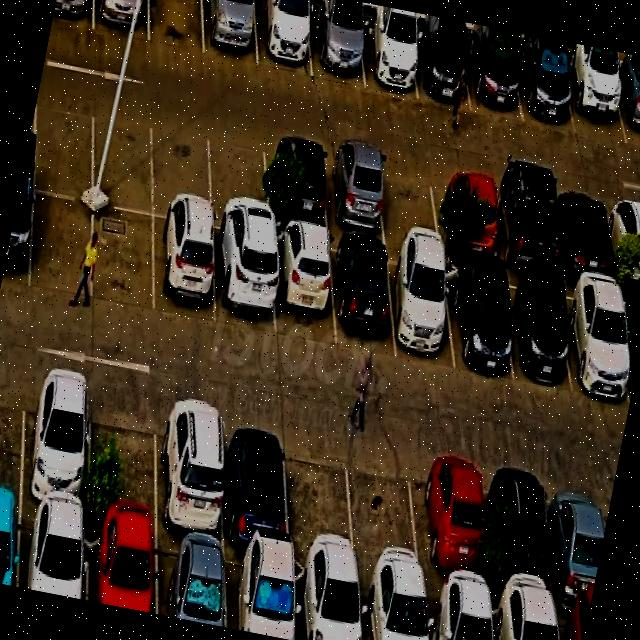empty: (348, 434, 424, 582), (89, 381, 158, 531), (286, 423, 356, 569), (93, 100, 155, 215), (30, 192, 94, 301), (209, 123, 268, 239), (153, 113, 212, 226), (33, 89, 93, 200), (93, 205, 153, 316), (378, 154, 440, 247), (0, 363, 25, 501), (149, 0, 204, 54)
occupied: (417, 445, 486, 595), (21, 367, 90, 516), (158, 395, 224, 544), (223, 408, 289, 553), (494, 458, 555, 605), (561, 276, 631, 400), (443, 261, 513, 381), (499, 270, 571, 386), (387, 248, 454, 369), (549, 469, 605, 610), (331, 236, 396, 354), (272, 226, 335, 346), (155, 533, 226, 628), (154, 218, 216, 325), (213, 231, 275, 337), (492, 175, 558, 274), (87, 520, 156, 614), (225, 547, 294, 640), (19, 505, 86, 600), (435, 165, 499, 261), (265, 135, 328, 231), (563, 54, 627, 145), (325, 145, 386, 239), (554, 185, 614, 278), (516, 41, 575, 134), (294, 559, 361, 640), (466, 32, 523, 122), (411, 26, 470, 111), (359, 16, 417, 98), (359, 575, 428, 640), (254, 0, 312, 76), (310, 6, 364, 85), (425, 584, 491, 640), (203, 0, 257, 66), (1, 184, 34, 290), (491, 595, 557, 640), (607, 194, 640, 282), (611, 62, 640, 147), (94, 0, 149, 41), (619, 286, 640, 393), (0, 502, 21, 587), (52, 0, 94, 30), (555, 606, 590, 640)
